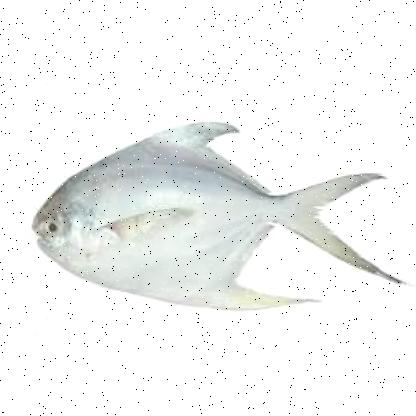ikan-pacu: (32, 118, 380, 310)
